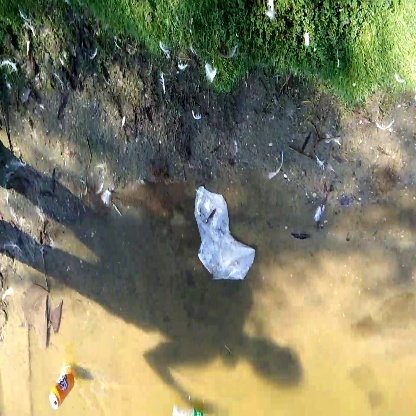bottle: (41, 364, 90, 415)
plastic-bag: (190, 182, 263, 283)
